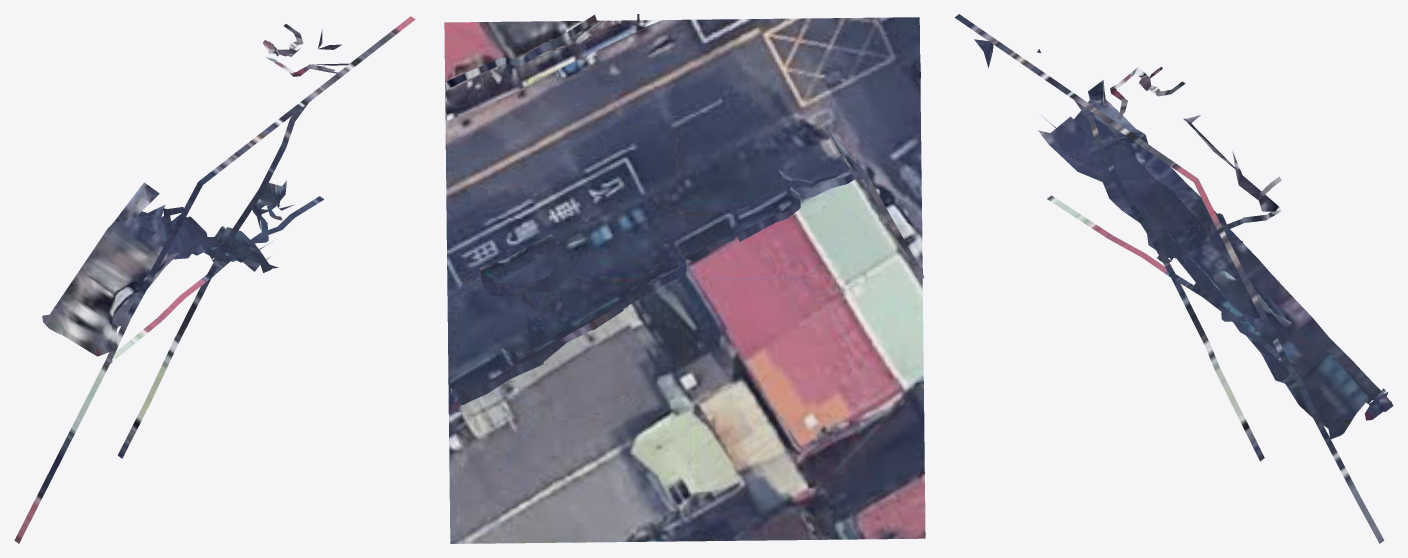
3 renders of one model, left to right at view 1: azimuth 30°, elevation 25°; view 2: azimuth 150°, elevation 25°; view 3: azimuth 270°, elevation 25°, orthographic. The views are drawn at different scales.
Bounding box in the file's own units: 38.27 × 37.49 × 33.27.
Materials: 1 (1 with a texture image).
